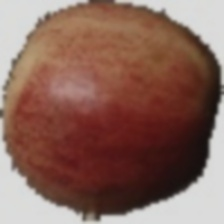apple: (56, 31, 195, 172)
